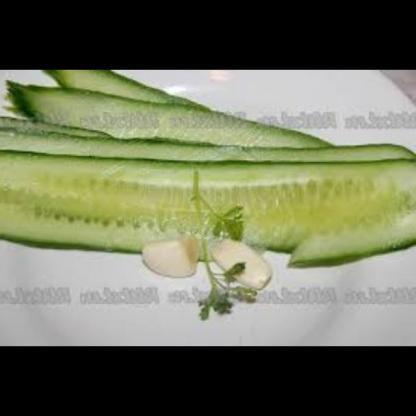cucumber: (0, 148, 413, 272), (1, 75, 337, 159), (26, 69, 209, 99)
